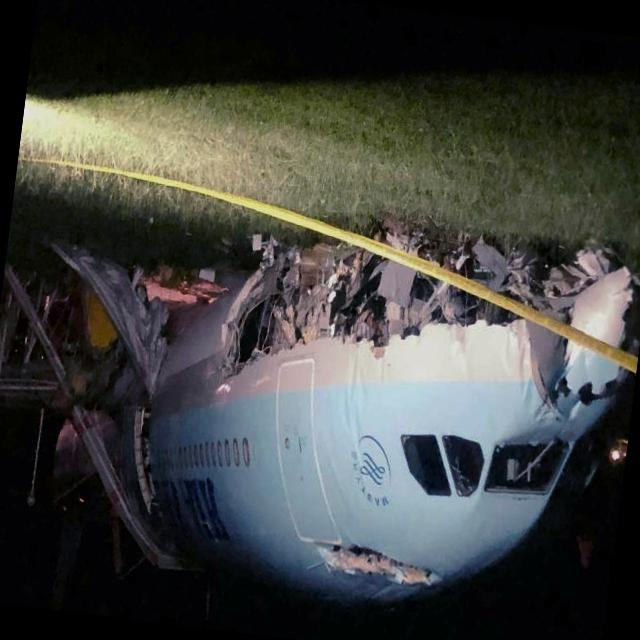crack: (307, 534, 444, 588)
